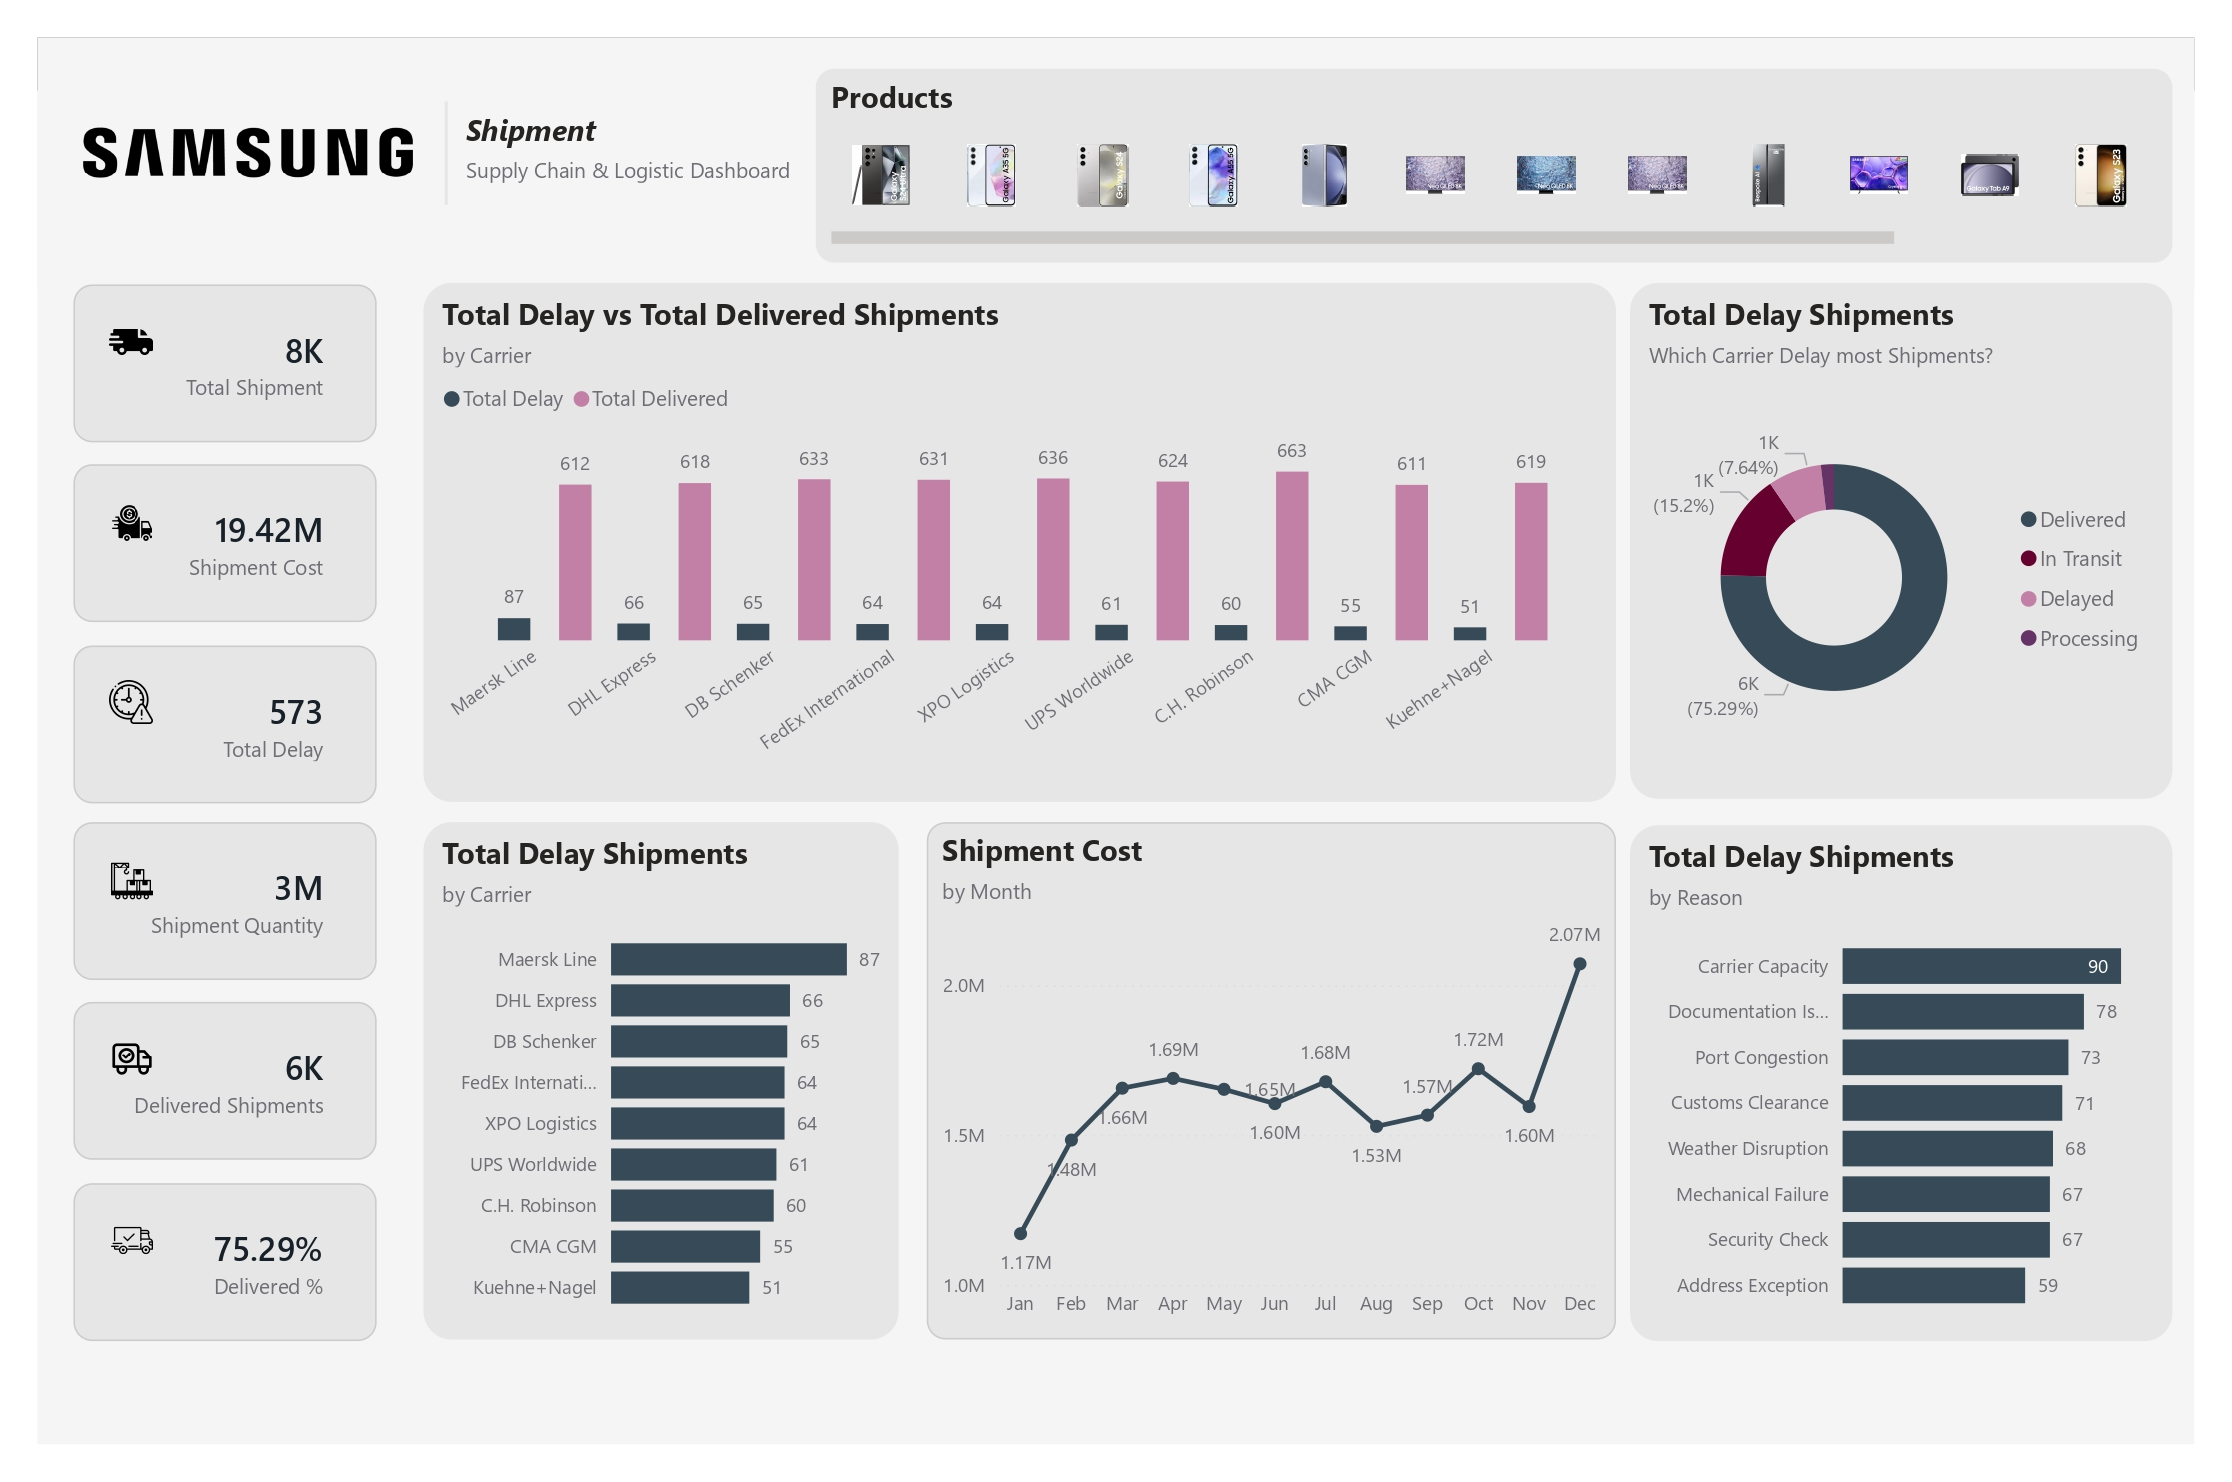

Layout of this report page (visuals, bound fields, positions):
{"tool":"powerbi","page":{"name":"Shipment","canvas":[1380,900],"ordinal":4},"visuals":[{"type":"actionButton","box":[1018.4,177.6,38.2,39.5],"z":0},{"type":"image","box":[11.8,34.2,235.5,77.6],"z":1000},{"type":"shape","box":[259.2,40.8,5.3,65.8],"z":2000},{"type":"shape","title":"Shipment","box":[273.7,46.1,225,55.3],"z":3000},{"type":"cardVisual","fields":{"Data":["MeasureTable.Shipment_Cost"]},"box":[23.1,273.1,194.2,101],"z":4000},{"type":"cardVisual","fields":{"Data":["MeasureTable.Total_Delay"]},"box":[23,388.5,194.3,101.1],"z":5000},{"type":"cardVisual","fields":{"Data":["MeasureTable.Total_Shipment_Quantity"]},"box":[23.1,501.9,194.2,101],"z":6000},{"type":"cardVisual","fields":{"Data":["MeasureTable.Total_Delivered_Ship"]},"box":[23.1,617.3,194.2,101],"z":7000},{"type":"cardVisual","fields":{"Data":["MeasureTable.Delivered %"]},"box":[23.1,732.7,194.2,101],"z":8000},{"type":"cardVisual","fields":{"Data":["MeasureTable.Total_Shipment"]},"box":[23.1,157.7,194.2,101],"z":9000},{"type":"clusteredBarChart","title":"Total Delay Shipments","fields":{"Category":["fact_shipment.carrier"],"Y":["MeasureTable.Total_Delay"]},"box":[247.1,502.3,303.4,331],"z":10000},{"type":"clusteredColumnChart","title":"Total Delay vs Total Delivered Shipments","fields":{"Y":["MeasureTable.Total_Delay","MeasureTable.Total_Delivered_Ship"],"Category":["fact_shipment.carrier"]},"box":[247.1,157.1,762.9,331.4],"z":11000},{"type":"lineChart","title":"Shipment Cost","fields":{"Y":["MeasureTable.Shipment_Cost"],"Category":["dim_date.Month_Short"]},"box":[569,502.3,441.4,331],"z":12000},{"type":"clusteredBarChart","title":"Total Delay Shipments","fields":{"Category":["fact_shipment.delay_reason"],"Y":["MeasureTable.Total_Delay"]},"box":[1018.6,504.3,347.1,330],"z":13000},{"type":"donutChart","title":"Total Delay Shipments","fields":{"Category":["fact_shipment.status"],"Y":["MeasureTable.Total_Shipment"]},"box":[1018.6,157.1,347.1,330],"z":14000},{"type":"image","box":[30,181.4,60,27.1],"z":15000},{"type":"image","box":[30,297.1,60,27.1],"z":16000},{"type":"image","box":[30,411.4,60,27.1],"z":17000},{"type":"image","box":[30,525.7,60,27.1],"z":18000},{"type":"image","box":[30,640,60,27.1],"z":19000},{"type":"image","box":[30,755.7,60,27.1],"z":20000},{"type":"advancedSlicerVisual","title":"Products","fields":{"Values":["dim_product.Img"]},"box":[498.4,19.7,867.2,124.6],"z":21000}]}

Visuals, with their boxes on the page's 1380x900 design canvas (x1, y1, x2, y2). These are canvas units, not pixel positions in the 2232x1482 screenshot, which may show the page scaled, cropped or inside an application window:
actionButton: <region>1018, 178, 1057, 217</region>
image: <region>12, 34, 247, 112</region>
shape: <region>259, 41, 264, 107</region>
"Shipment" shape: <region>274, 46, 499, 101</region>
cardVisual - MeasureTable.Shipment_Cost: <region>23, 273, 217, 374</region>
cardVisual - MeasureTable.Total_Delay: <region>23, 388, 217, 490</region>
cardVisual - MeasureTable.Total_Shipment_Quantity: <region>23, 502, 217, 603</region>
cardVisual - MeasureTable.Total_Delivered_Ship: <region>23, 617, 217, 718</region>
cardVisual - MeasureTable.Delivered %: <region>23, 733, 217, 834</region>
cardVisual - MeasureTable.Total_Shipment: <region>23, 158, 217, 259</region>
"Total Delay Shipments" clusteredBarChart: <region>247, 502, 550, 833</region>
"Total Delay vs Total Delivered Shipments" clusteredColumnChart: <region>247, 157, 1010, 488</region>
"Shipment Cost" lineChart: <region>569, 502, 1010, 833</region>
"Total Delay Shipments" clusteredBarChart: <region>1019, 504, 1366, 834</region>
"Total Delay Shipments" donutChart: <region>1019, 157, 1366, 487</region>
image: <region>30, 181, 90, 208</region>
image: <region>30, 297, 90, 324</region>
image: <region>30, 411, 90, 438</region>
image: <region>30, 526, 90, 553</region>
image: <region>30, 640, 90, 667</region>
image: <region>30, 756, 90, 783</region>
"Products" advancedSlicerVisual: <region>498, 20, 1366, 144</region>
